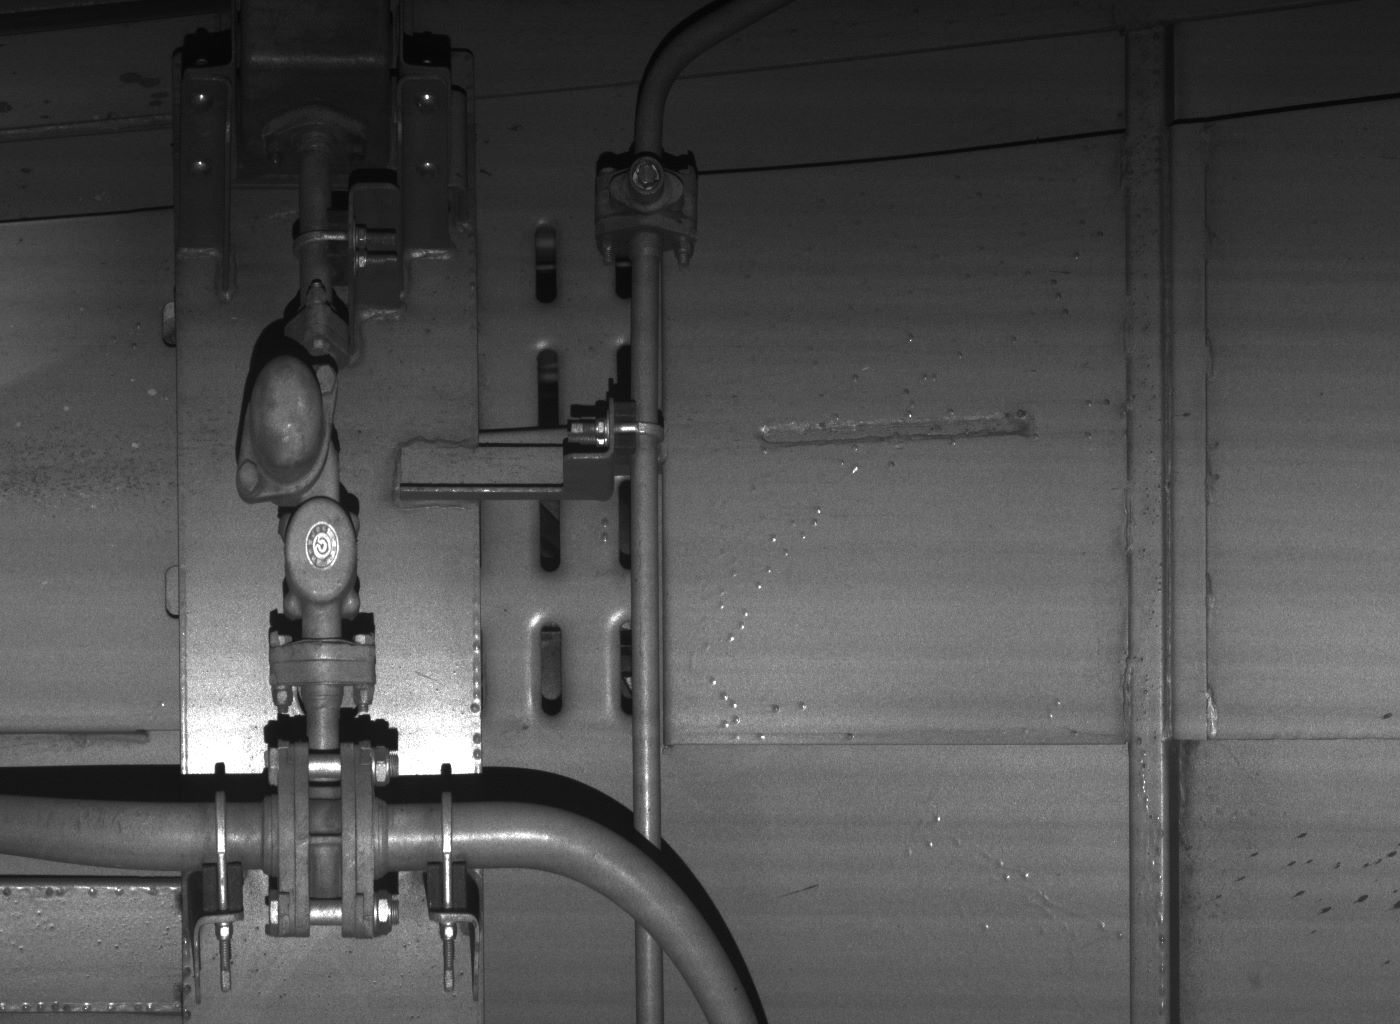normal: (278, 495, 363, 619)
